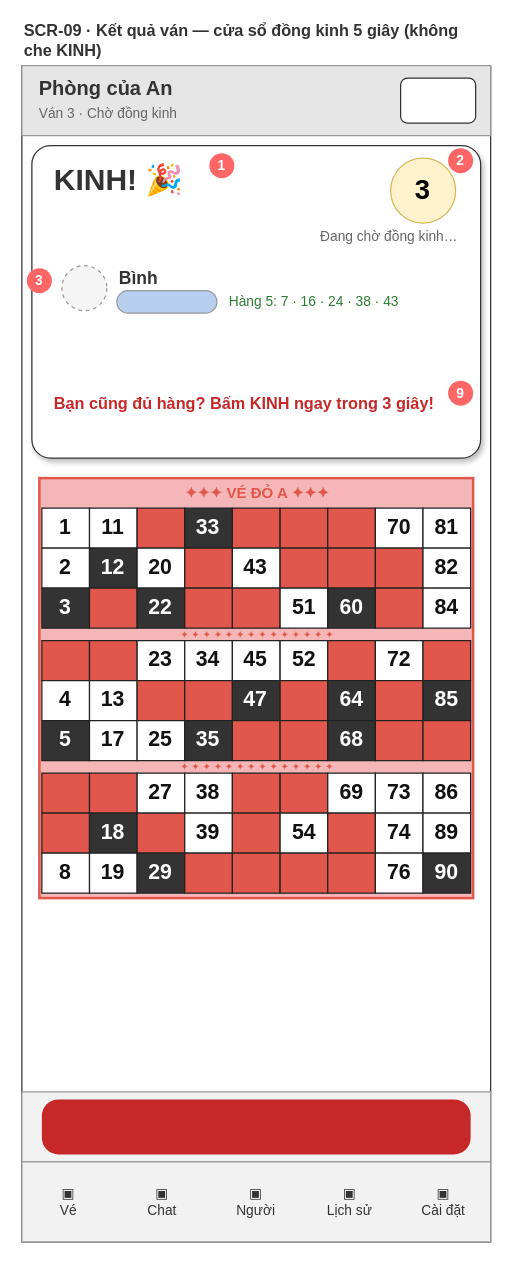
Some shapes in this 513 by 1264 pixel diagram are drawn without their labels. The shapes that lost their labels are listed below. From the top down, each one's centre as x and y in pixels, then its label:
At point 437,100: "Rời".
At point 84,287: "Ảnh".
At point 166,301: "Vé Lam B".
At point 255,1126: "KINH!".
